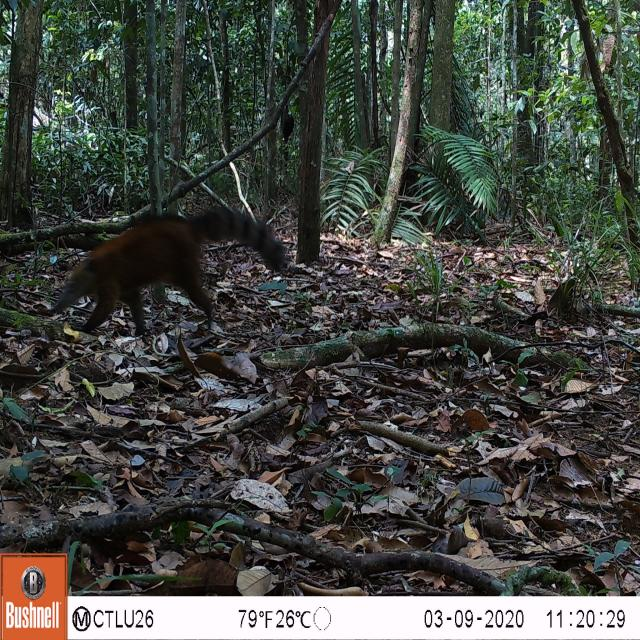South American Coati: (46, 196, 303, 346)
